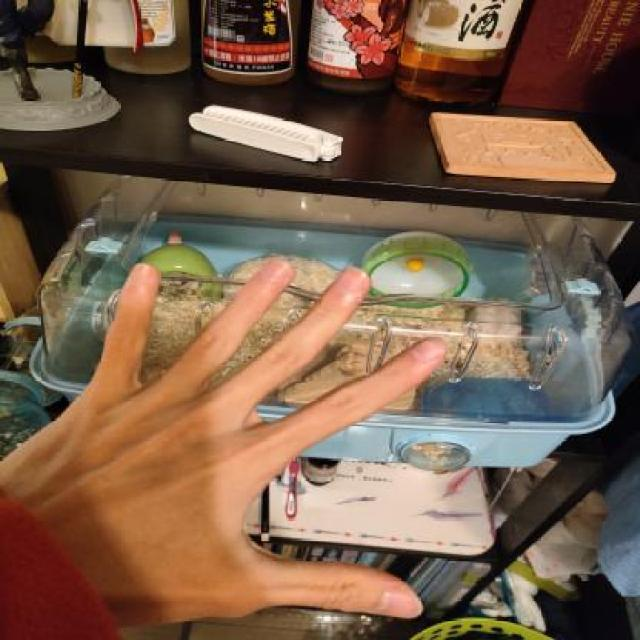bare_hand: (6, 244, 472, 638)
